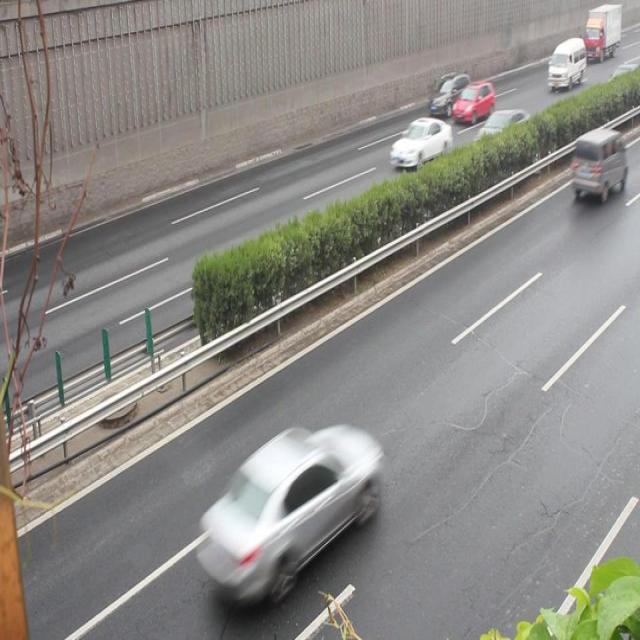car: (200, 426, 382, 600), (469, 110, 531, 163), (390, 115, 453, 167), (428, 73, 471, 119), (451, 81, 493, 123)
truck: (570, 127, 624, 201), (546, 39, 586, 91)
